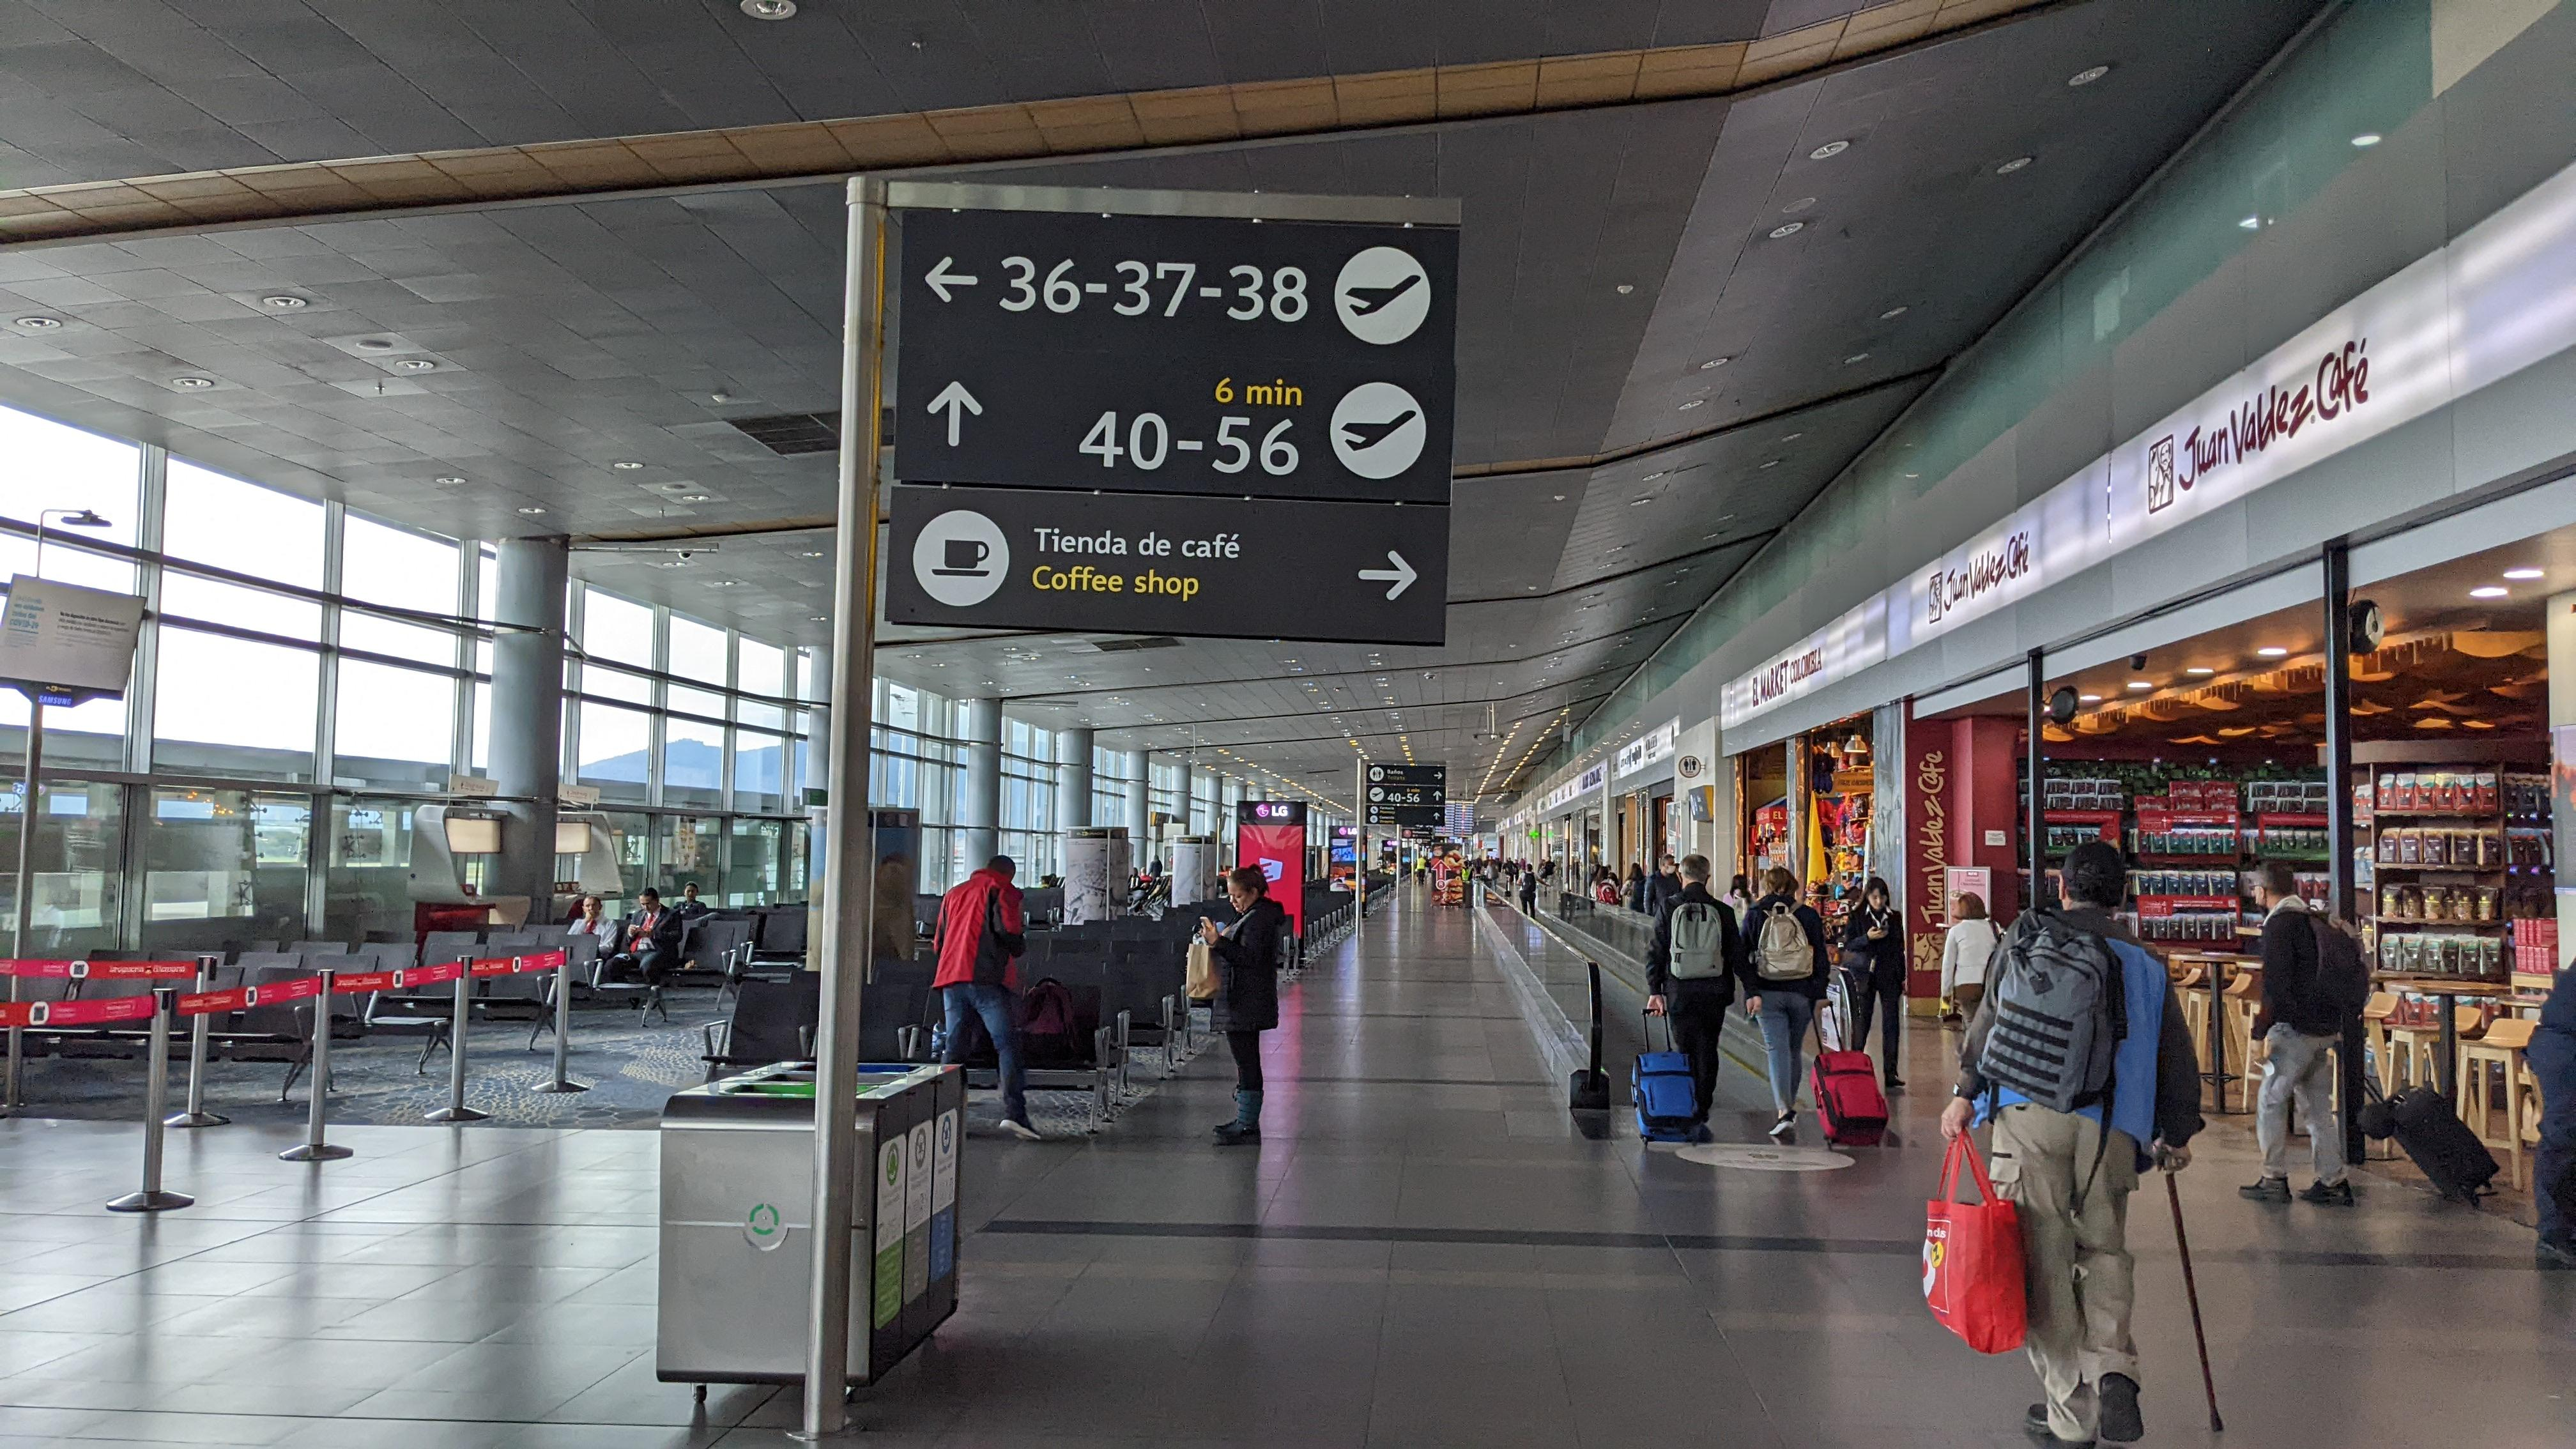airplane symbol: (1343, 272, 1424, 318), (1341, 407, 1417, 453), (1371, 791, 1384, 798)
bathrooms: (1371, 768, 1382, 778)
left arrow: (918, 253, 980, 306)
right arrow: (1355, 543, 1421, 607), (1433, 771, 1442, 780)
up arrow: (924, 375, 989, 449), (1431, 789, 1442, 801), (1433, 812, 1440, 821)
